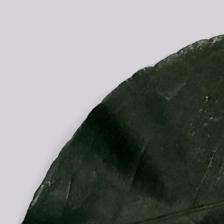healthy: (26, 18, 224, 222)
